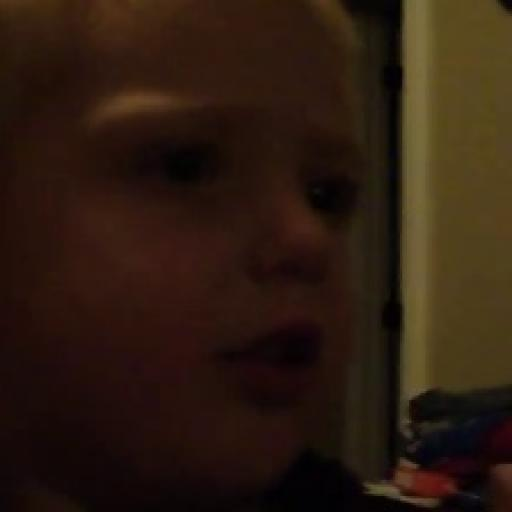Autism: (26, 12, 454, 484)
